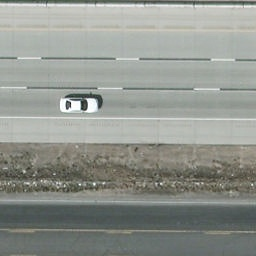car: (59, 96, 101, 114)
